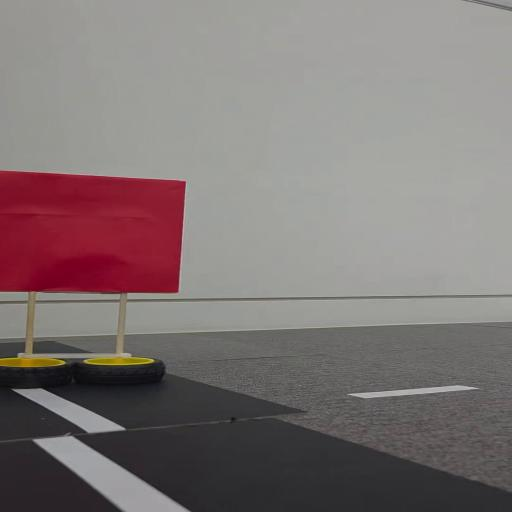Sign_A: (3, 167, 218, 394)
